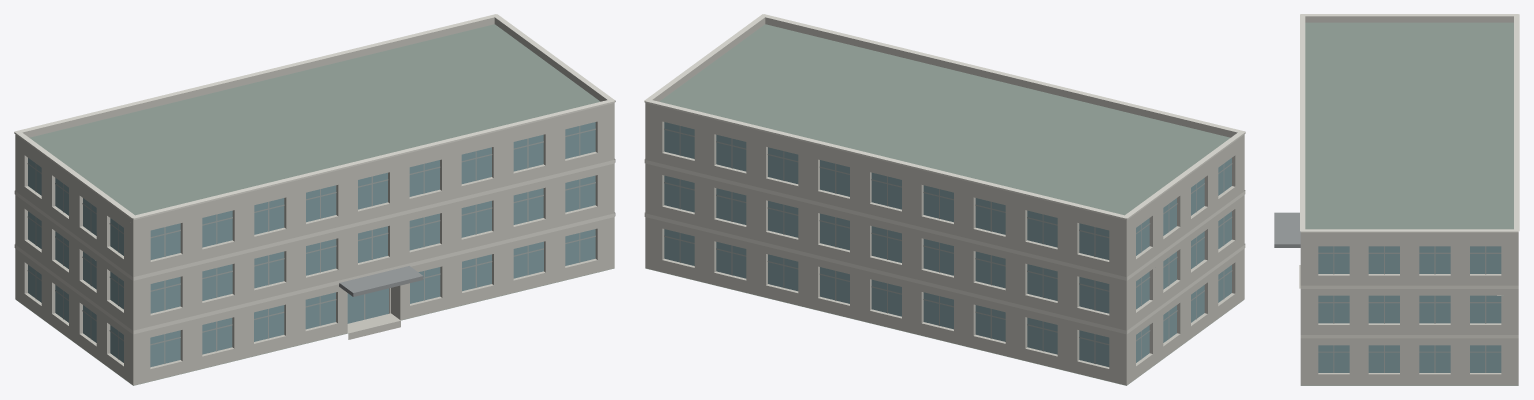
3 views of the same model, side by side, from view 1: azimuth 30°, elevation 25°; view 2: azimuth 150°, elevation 25°; view 3: azimuth 270°, elevation 25° (orthographic). The views are drawn at different scales.
Parts seen in each view (by area): view 1: biomedical__wall, biomedical__roof, biomedical__glass, biomedical__trim, biomedical__parapet, biomedical__frame, biomedical__canopy, biomedical__entranceThreshold_0; view 2: biomedical__wall, biomedical__roof, biomedical__glass, biomedical__trim, biomedical__parapet, biomedical__frame; view 3: biomedical__roof, biomedical__wall, biomedical__glass, biomedical__trim, biomedical__parapet, biomedical__frame, biomedical__canopy.
Part boxes in pixels (x1,y1,x2,y2): biomedical__wall: (15,107,614,385); biomedical__roof: (16,24,614,385); biomedical__glass: (28,122,595,367); biomedical__trim: (14,14,615,333); biomedical__parapet: (15,17,614,224); biomedical__frame: (27,126,595,363); biomedical__canopy: (339,266,423,296); biomedical__entranceThreshold_0: (347,313,400,339); biomedical__wall: (645,107,1244,385); biomedical__roof: (645,24,1243,385); biomedical__glass: (664,122,1231,366); biomedical__trim: (644,14,1245,333); biomedical__parapet: (645,17,1244,224); biomedical__frame: (664,126,1232,363); biomedical__roof: (1301,22,1518,385); biomedical__wall: (1300,237,1518,385); biomedical__glass: (1318,246,1501,372); biomedical__trim: (1300,14,1519,338); biomedical__parapet: (1300,16,1518,237); biomedical__frame: (1318,246,1501,372); biomedical__canopy: (1274,212,1300,247).
Bounding box in the file's own units: 33.07 × 11.35 × 15.76.
